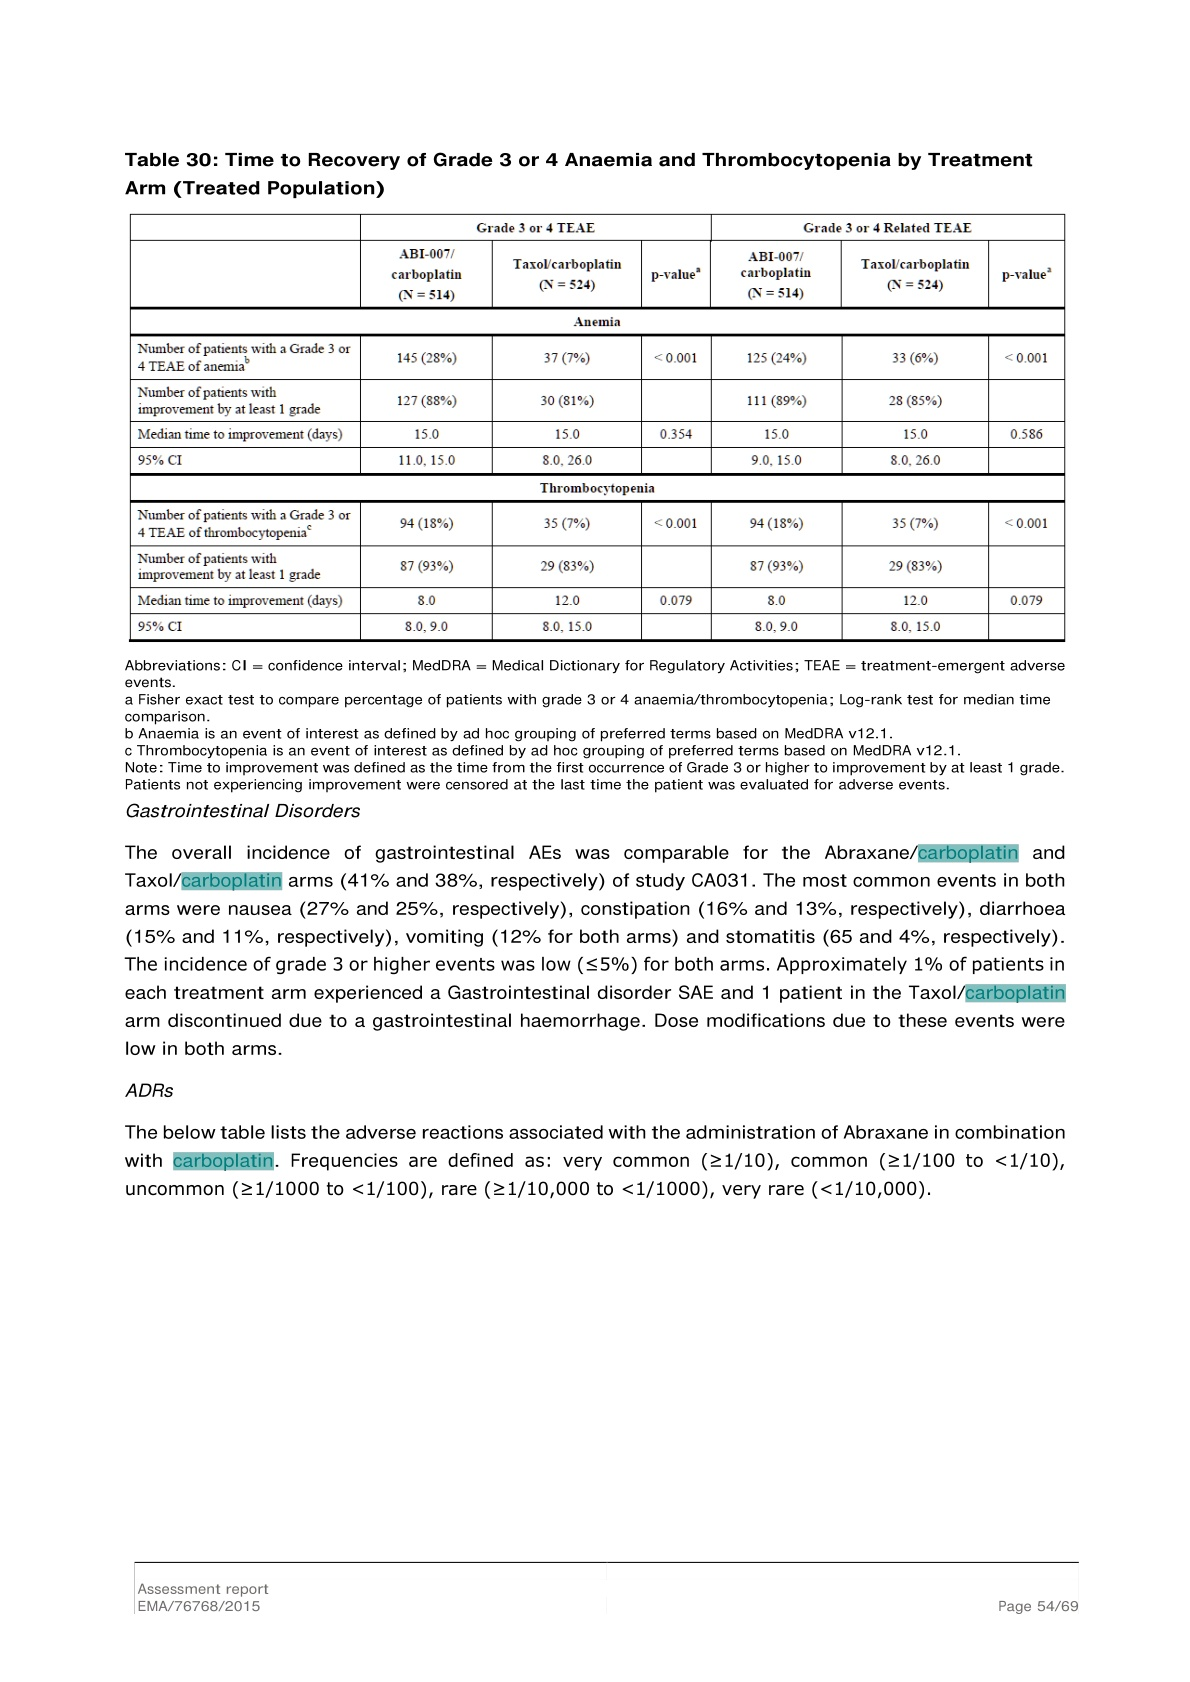merged_cells: (129, 213, 1066, 641)
